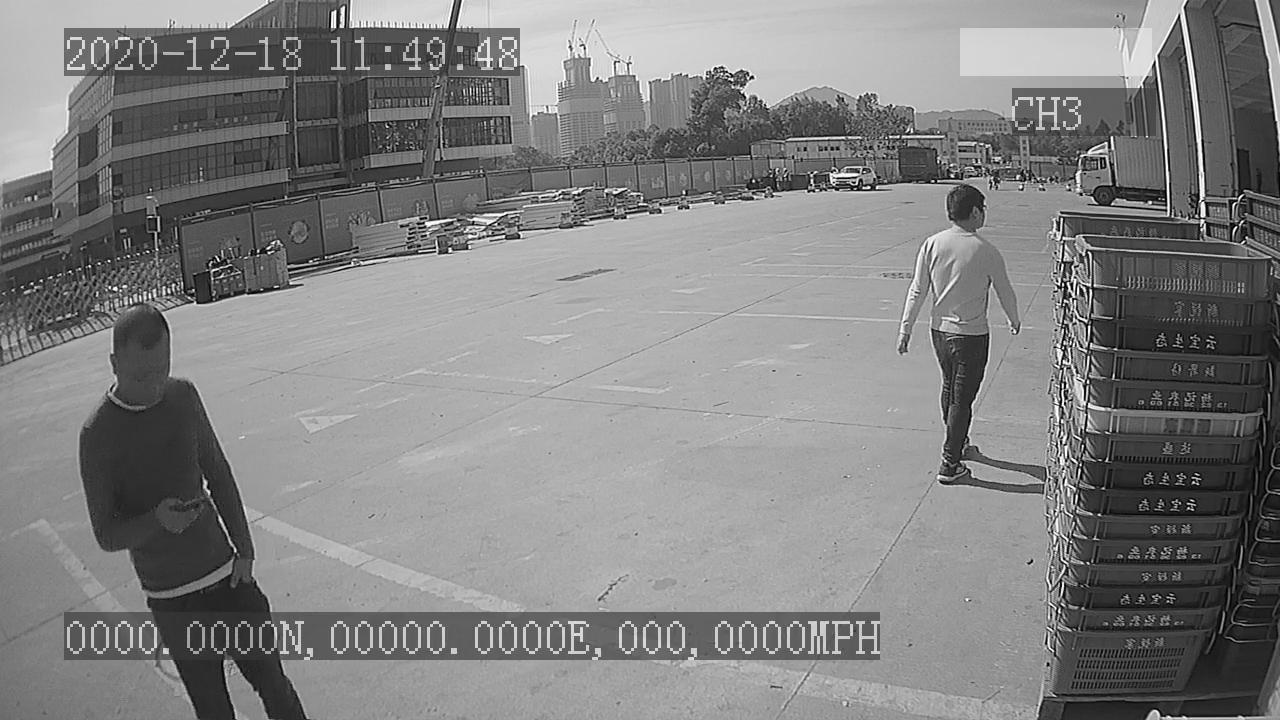person: (895, 179, 1027, 490)
